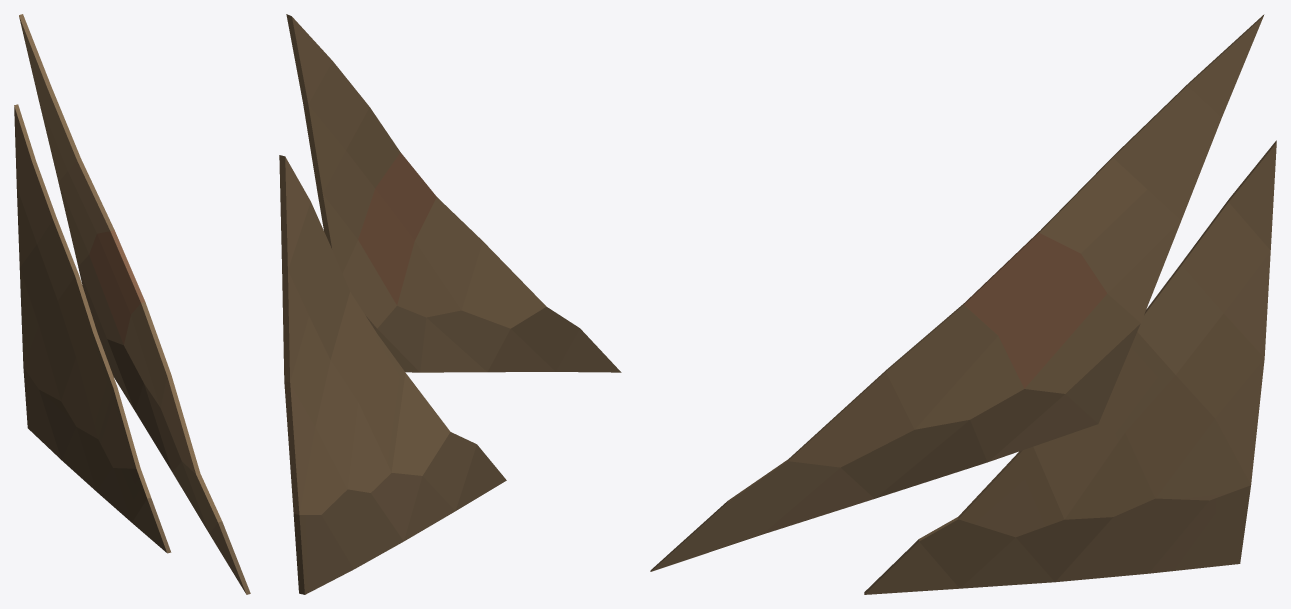
Rendered from SM_Veh_Boat_Large_Sails_03_Pirate.glb.
3 views of the same model, side by side, from view 1: azimuth 30°, elevation 25°; view 2: azimuth 150°, elevation 25°; view 3: azimuth 270°, elevation 25° (orthographic). The views are drawn at different scales.
Visible parts, largest first — view 1: SM_Veh_Boat_Large_Sails_03_Pirate; view 2: SM_Veh_Boat_Large_Sails_03_Pirate; view 3: SM_Veh_Boat_Large_Sails_03_Pirate.
Boxes of the visible parts, x1,y1,x2,y2 form: SM_Veh_Boat_Large_Sails_03_Pirate: (14,14,250,594); SM_Veh_Boat_Large_Sails_03_Pirate: (279,14,621,594); SM_Veh_Boat_Large_Sails_03_Pirate: (650,14,1276,594).
Bounding box in the file's own units: 0.007 × 0.1339 × 0.1314.
1 material, 1 textured.
